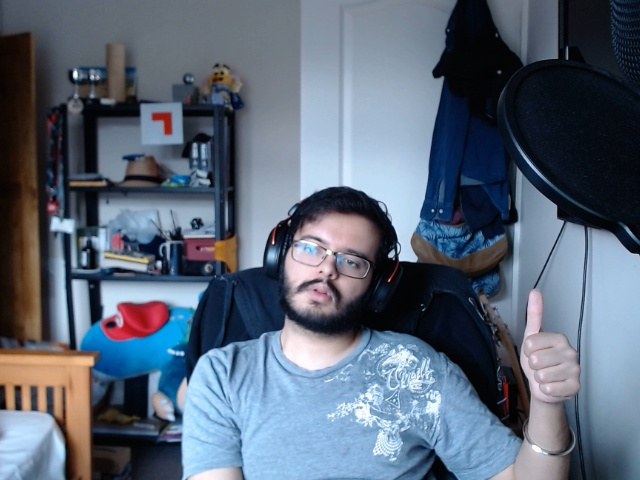Thumbs up: (516, 279, 591, 411)
